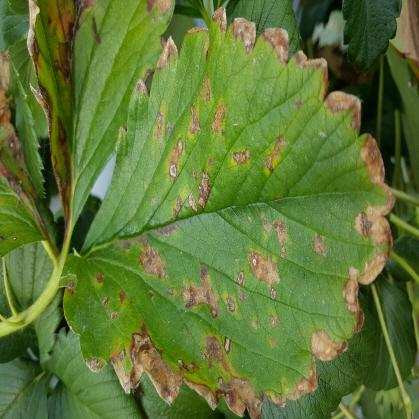Angular Leafspot: (59, 5, 397, 418), (27, 0, 176, 247), (0, 35, 57, 256)
